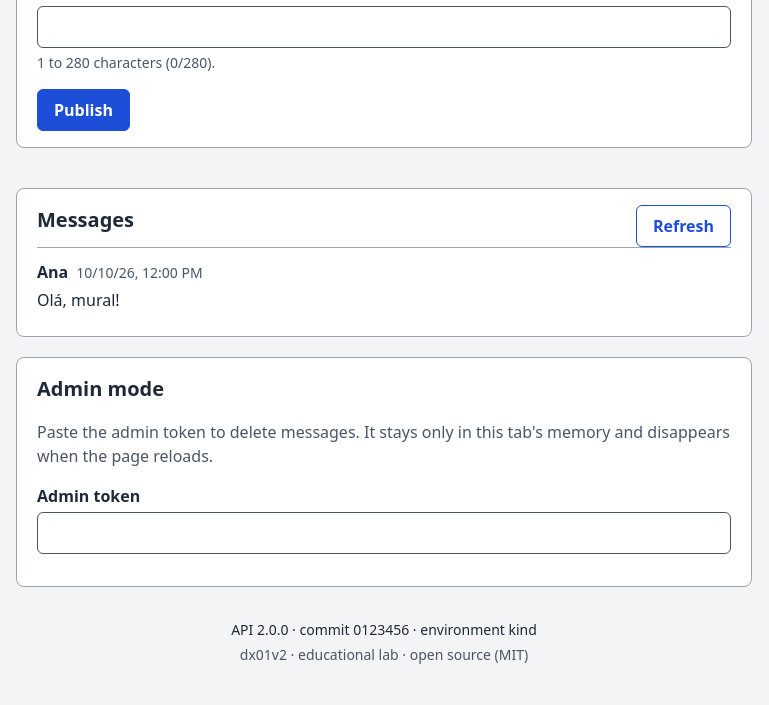
Test: App › explains a rejected admin token
(page scrolled)
expect the text "API 2.0.0 · commit 0123456 · environment kind" is shown: met, box [231,620,537,639]
Type "wrong-token" into the password field labelled "Admin token". click: coordinates (384, 533)
box: [37,512,731,554]
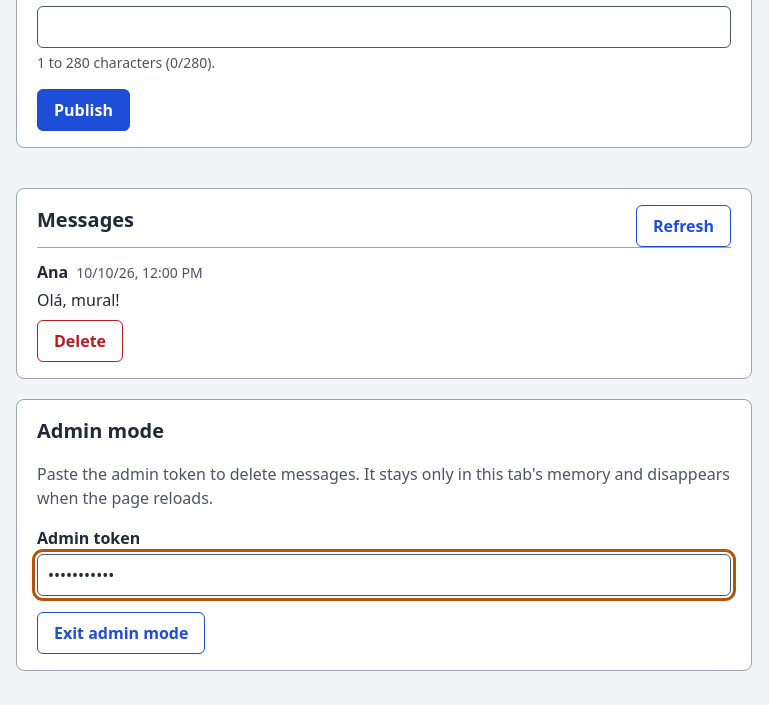
Click the button with aria-label "Delete message by Ana". click: coordinates (80, 341)
box: [37,320,123,362]
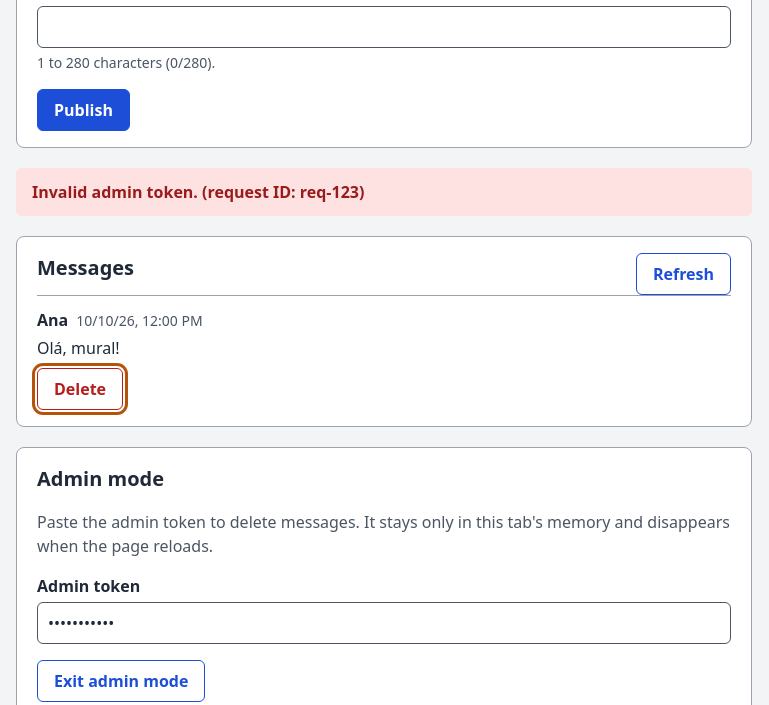
expect the text "Olá, mural!" is shown: met, box [37,337,120,359]
expect the message shows "Invalid admin token.": met, box [32,181,364,203]
